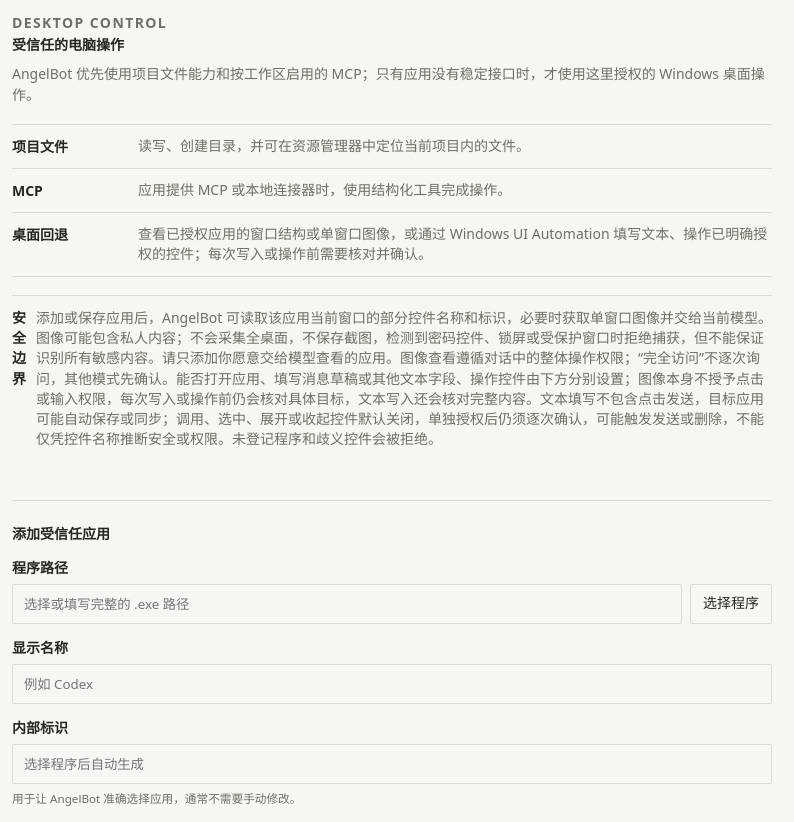
Scenario: DesktopControlSettings › uses the Windows file picker to configure a trusted application
Click the button "选择程序": (731, 604) [690,584,772,624]
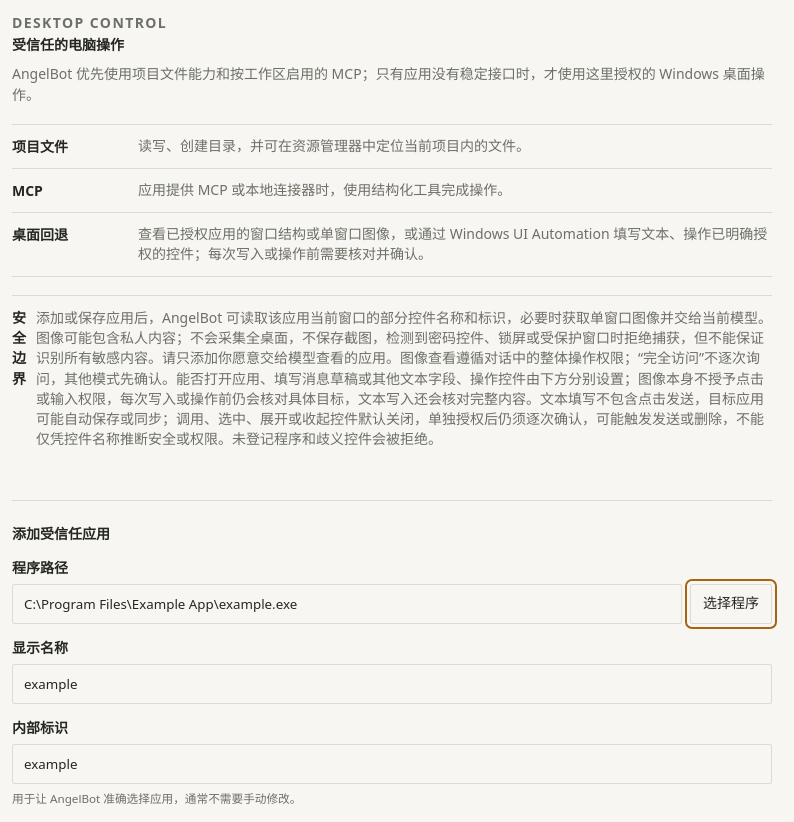
expect the field labelled "程序路径" holds "C:\\Program Files\\Example App\\example.exe": met, box [12,584,682,624]
expect the field labelled "显示名称" holds "example": met, box [12,664,772,704]
expect the field labelled "内部标识 用于让 AngelBot 准确选择应用，通常不需要手动修改。" holds "example": met, box [12,744,772,784]
